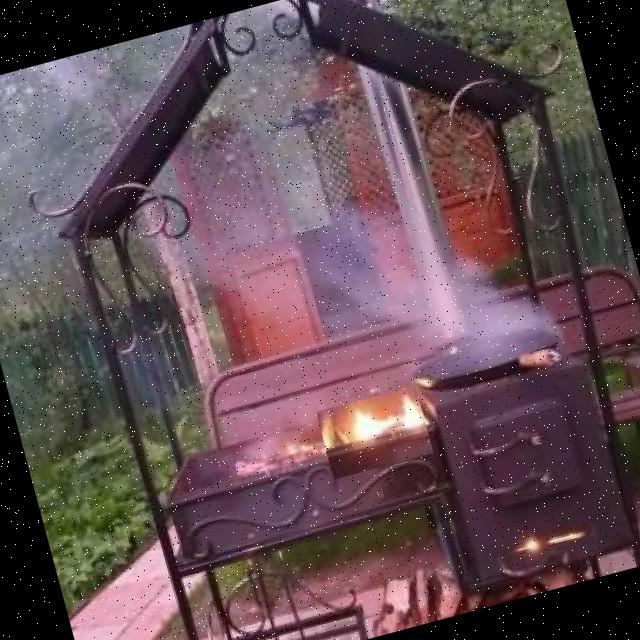fire: (316, 385, 434, 479)
